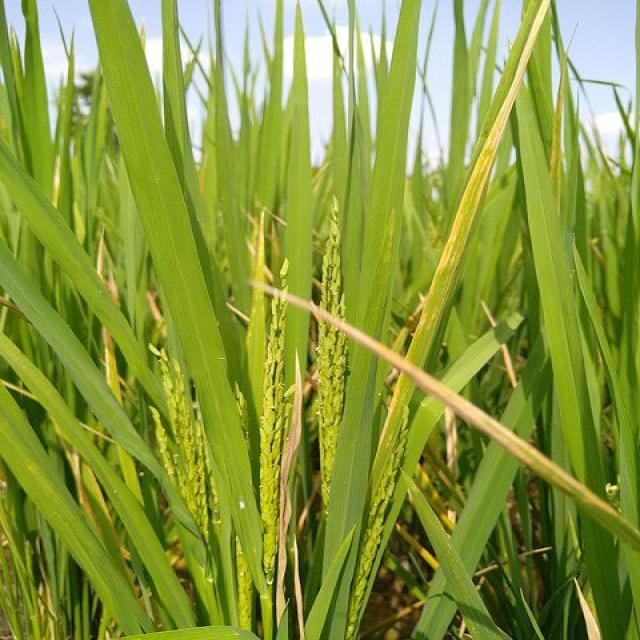Leaf Streak: (251, 281, 639, 540), (415, 0, 551, 342), (273, 392, 301, 575)
